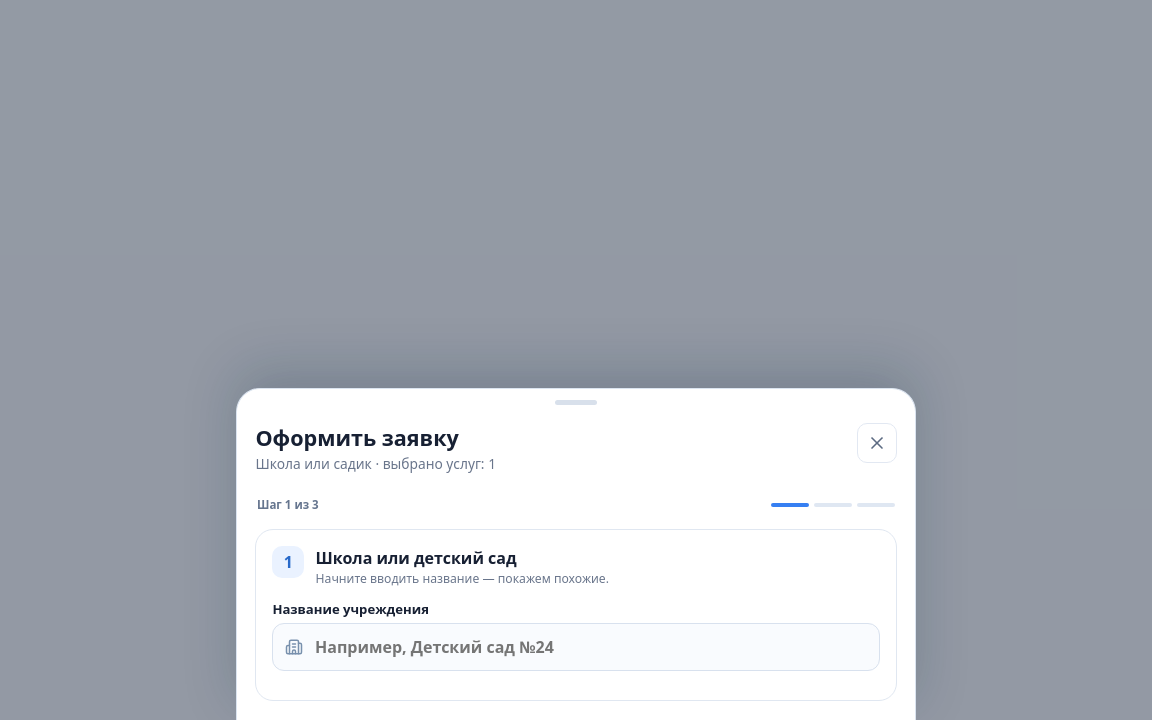
Test case: CatalogInquiry project intake › offers a matching institution and group, then attaches the child to them
This screenshot has width=1152, height=720.
Type "садик 24" into the field labelled "Название учреждения" at (576, 647), box [272,623,880,671]
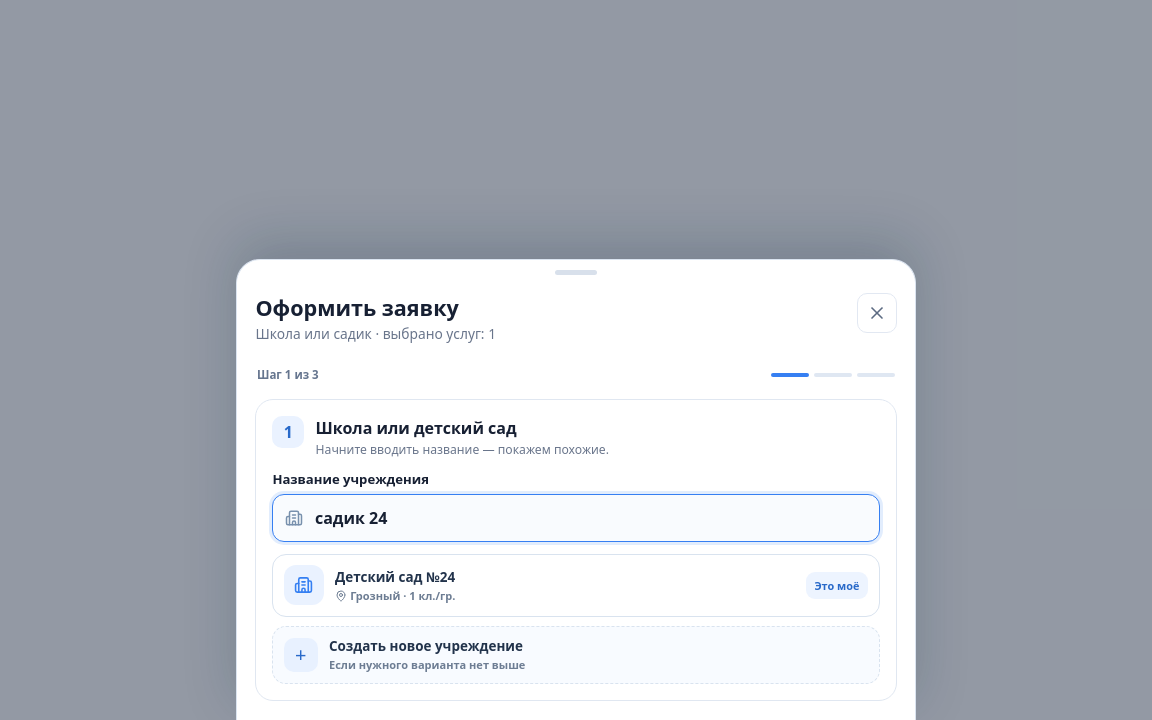
Click the button "Детский сад №24 Грозный · 1 кл./гр. Это моё" at (304, 585), box [272,554,880,617]
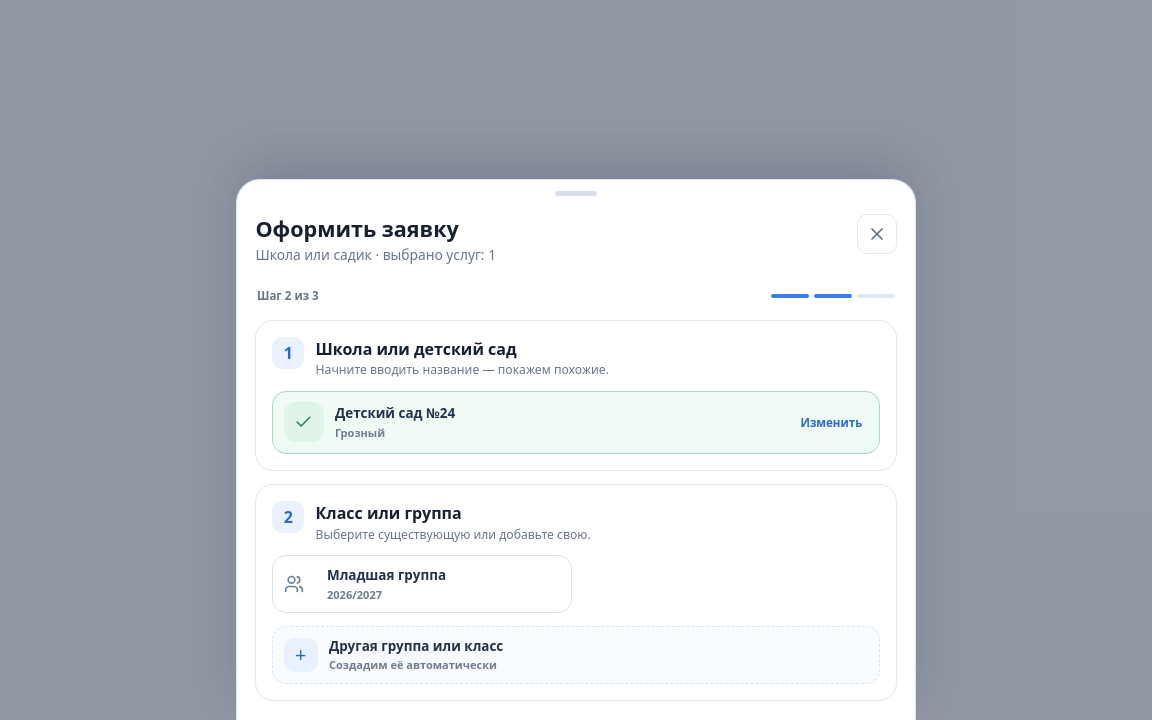
Click the button "Младшая группа 2026/2027" at (422, 584), box [272,555,572,613]
(page scrolled)
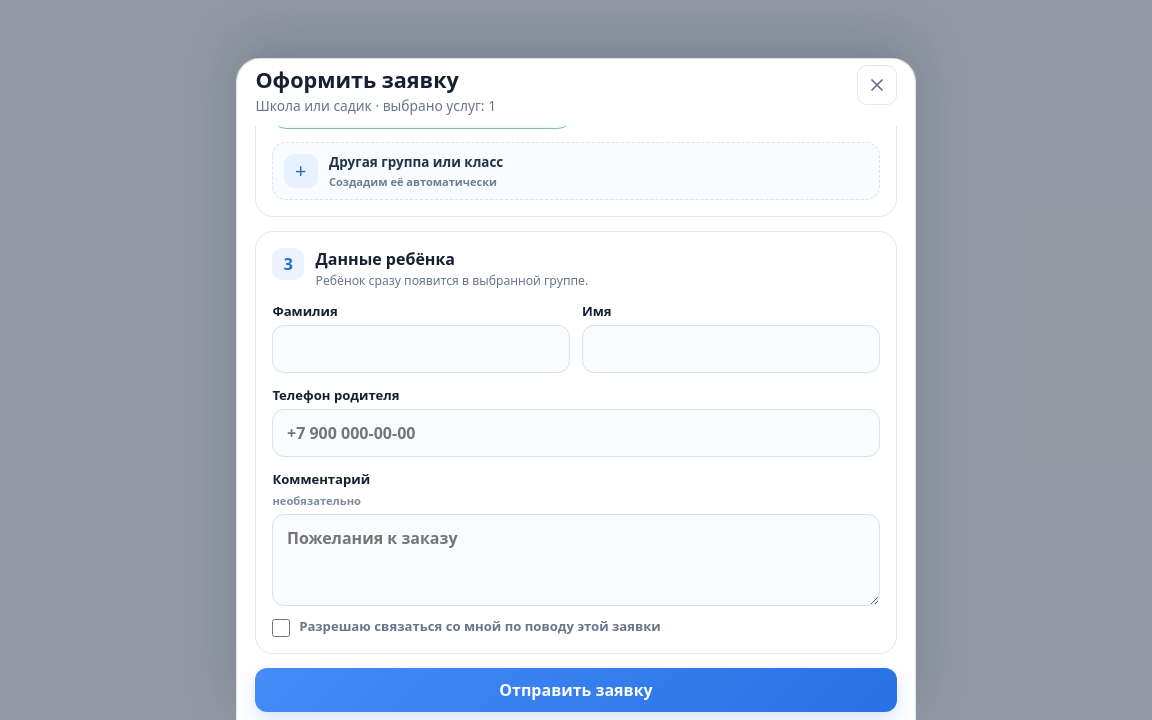
Type "Иванова" into the field labelled "Фамилия" at (421, 349), box [272,325,570,373]
Type "Амина" into the field labelled "Имя" at (731, 349), box [582,325,880,373]
Type "+7 999 111-22-33" into the field labelled "Телефон родителя" at (576, 433), box [272,409,880,457]
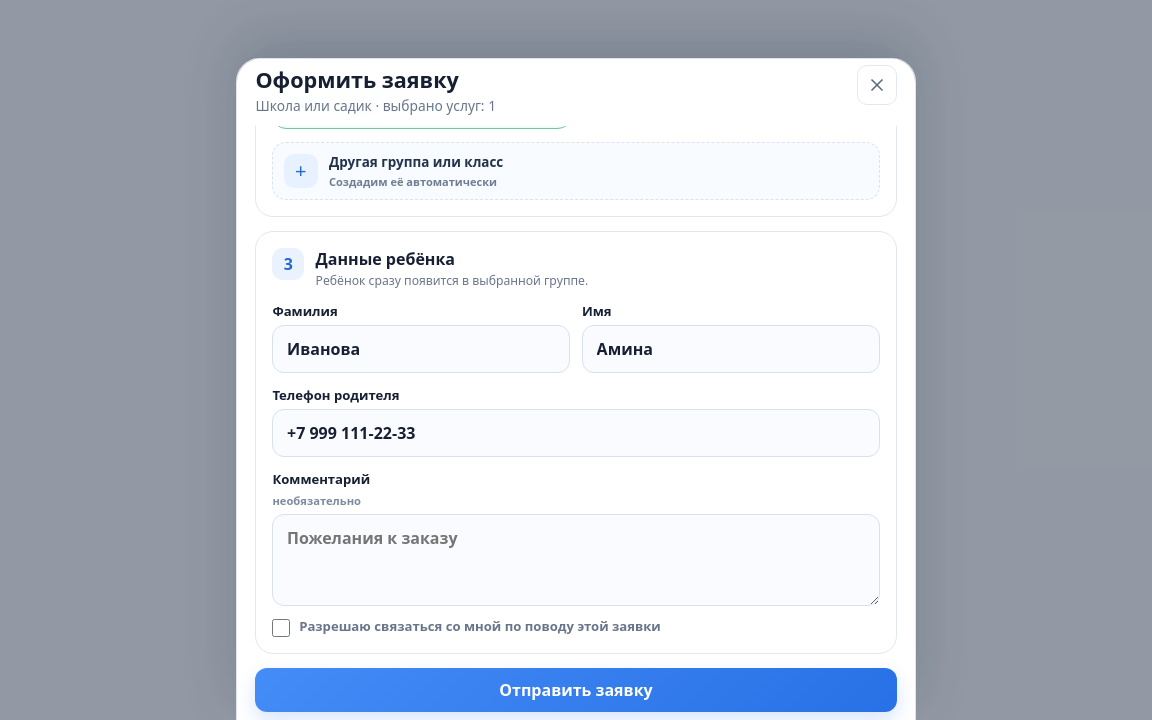
Click the checkbox at (281, 628), box [272,619,290,637]
(page scrolled)
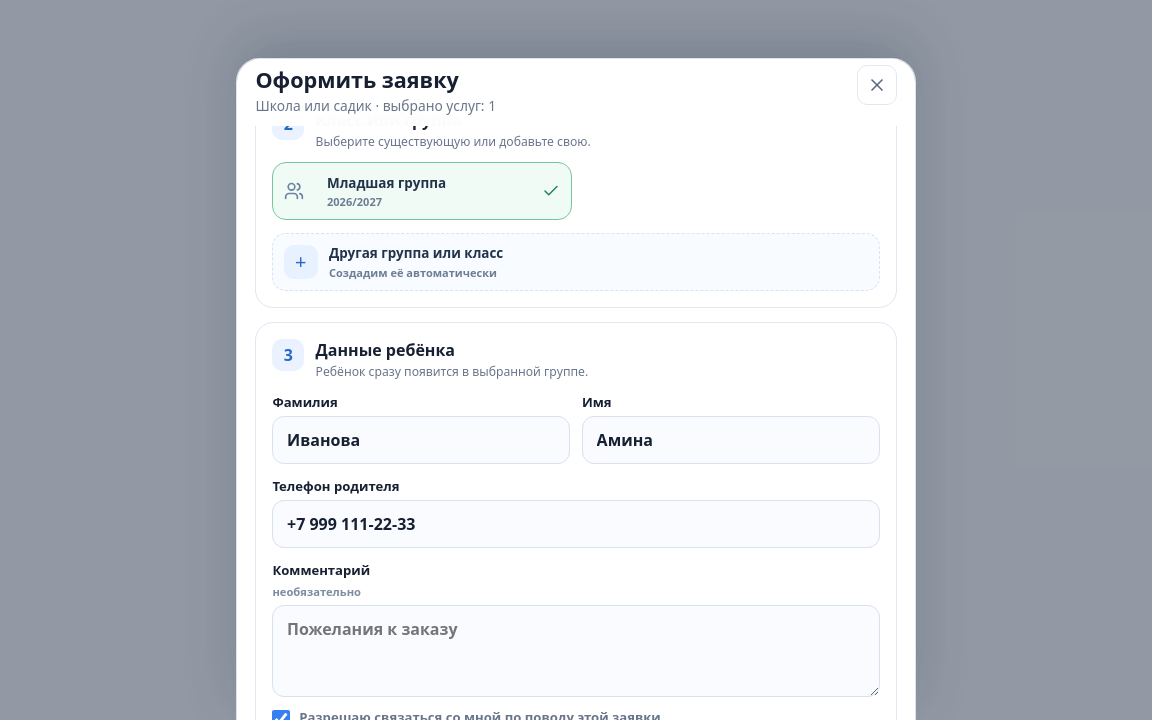
Submit the form named "Отправить заявку"
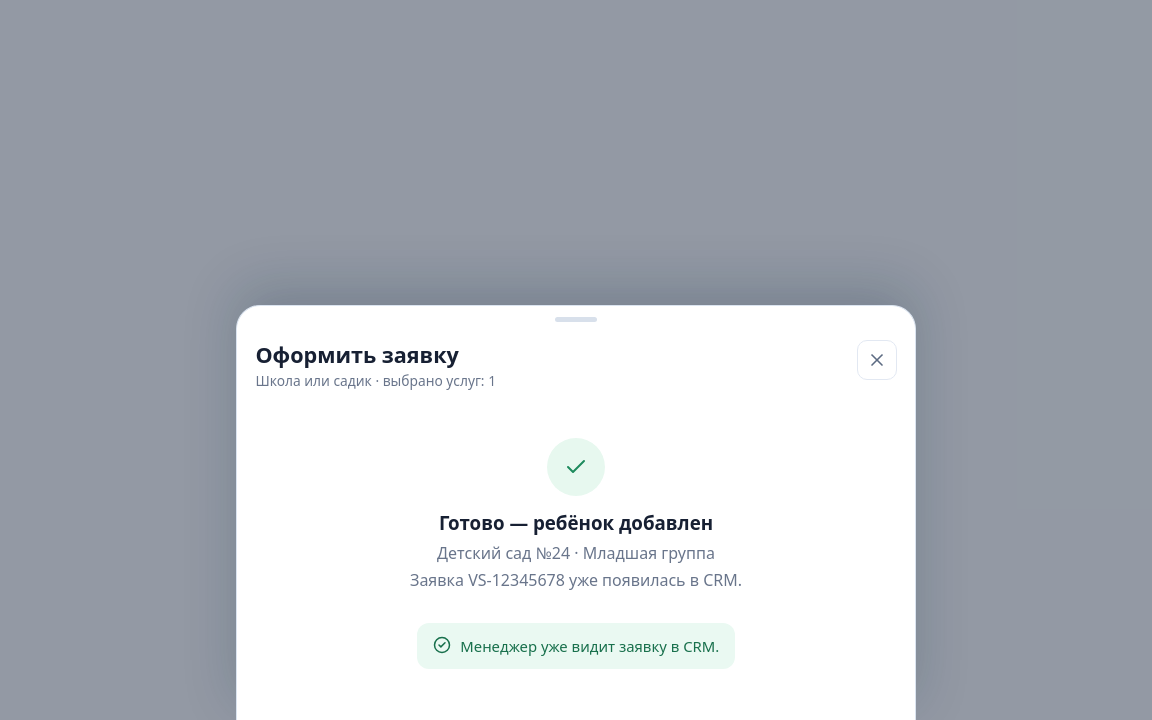
Expected: the heading "Готово — ребёнок добавлен" is shown, [439,510,713,535]
